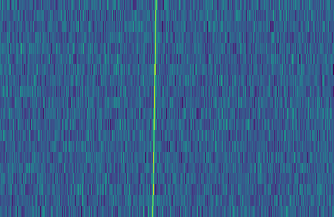signal: (148, 0, 160, 217)
